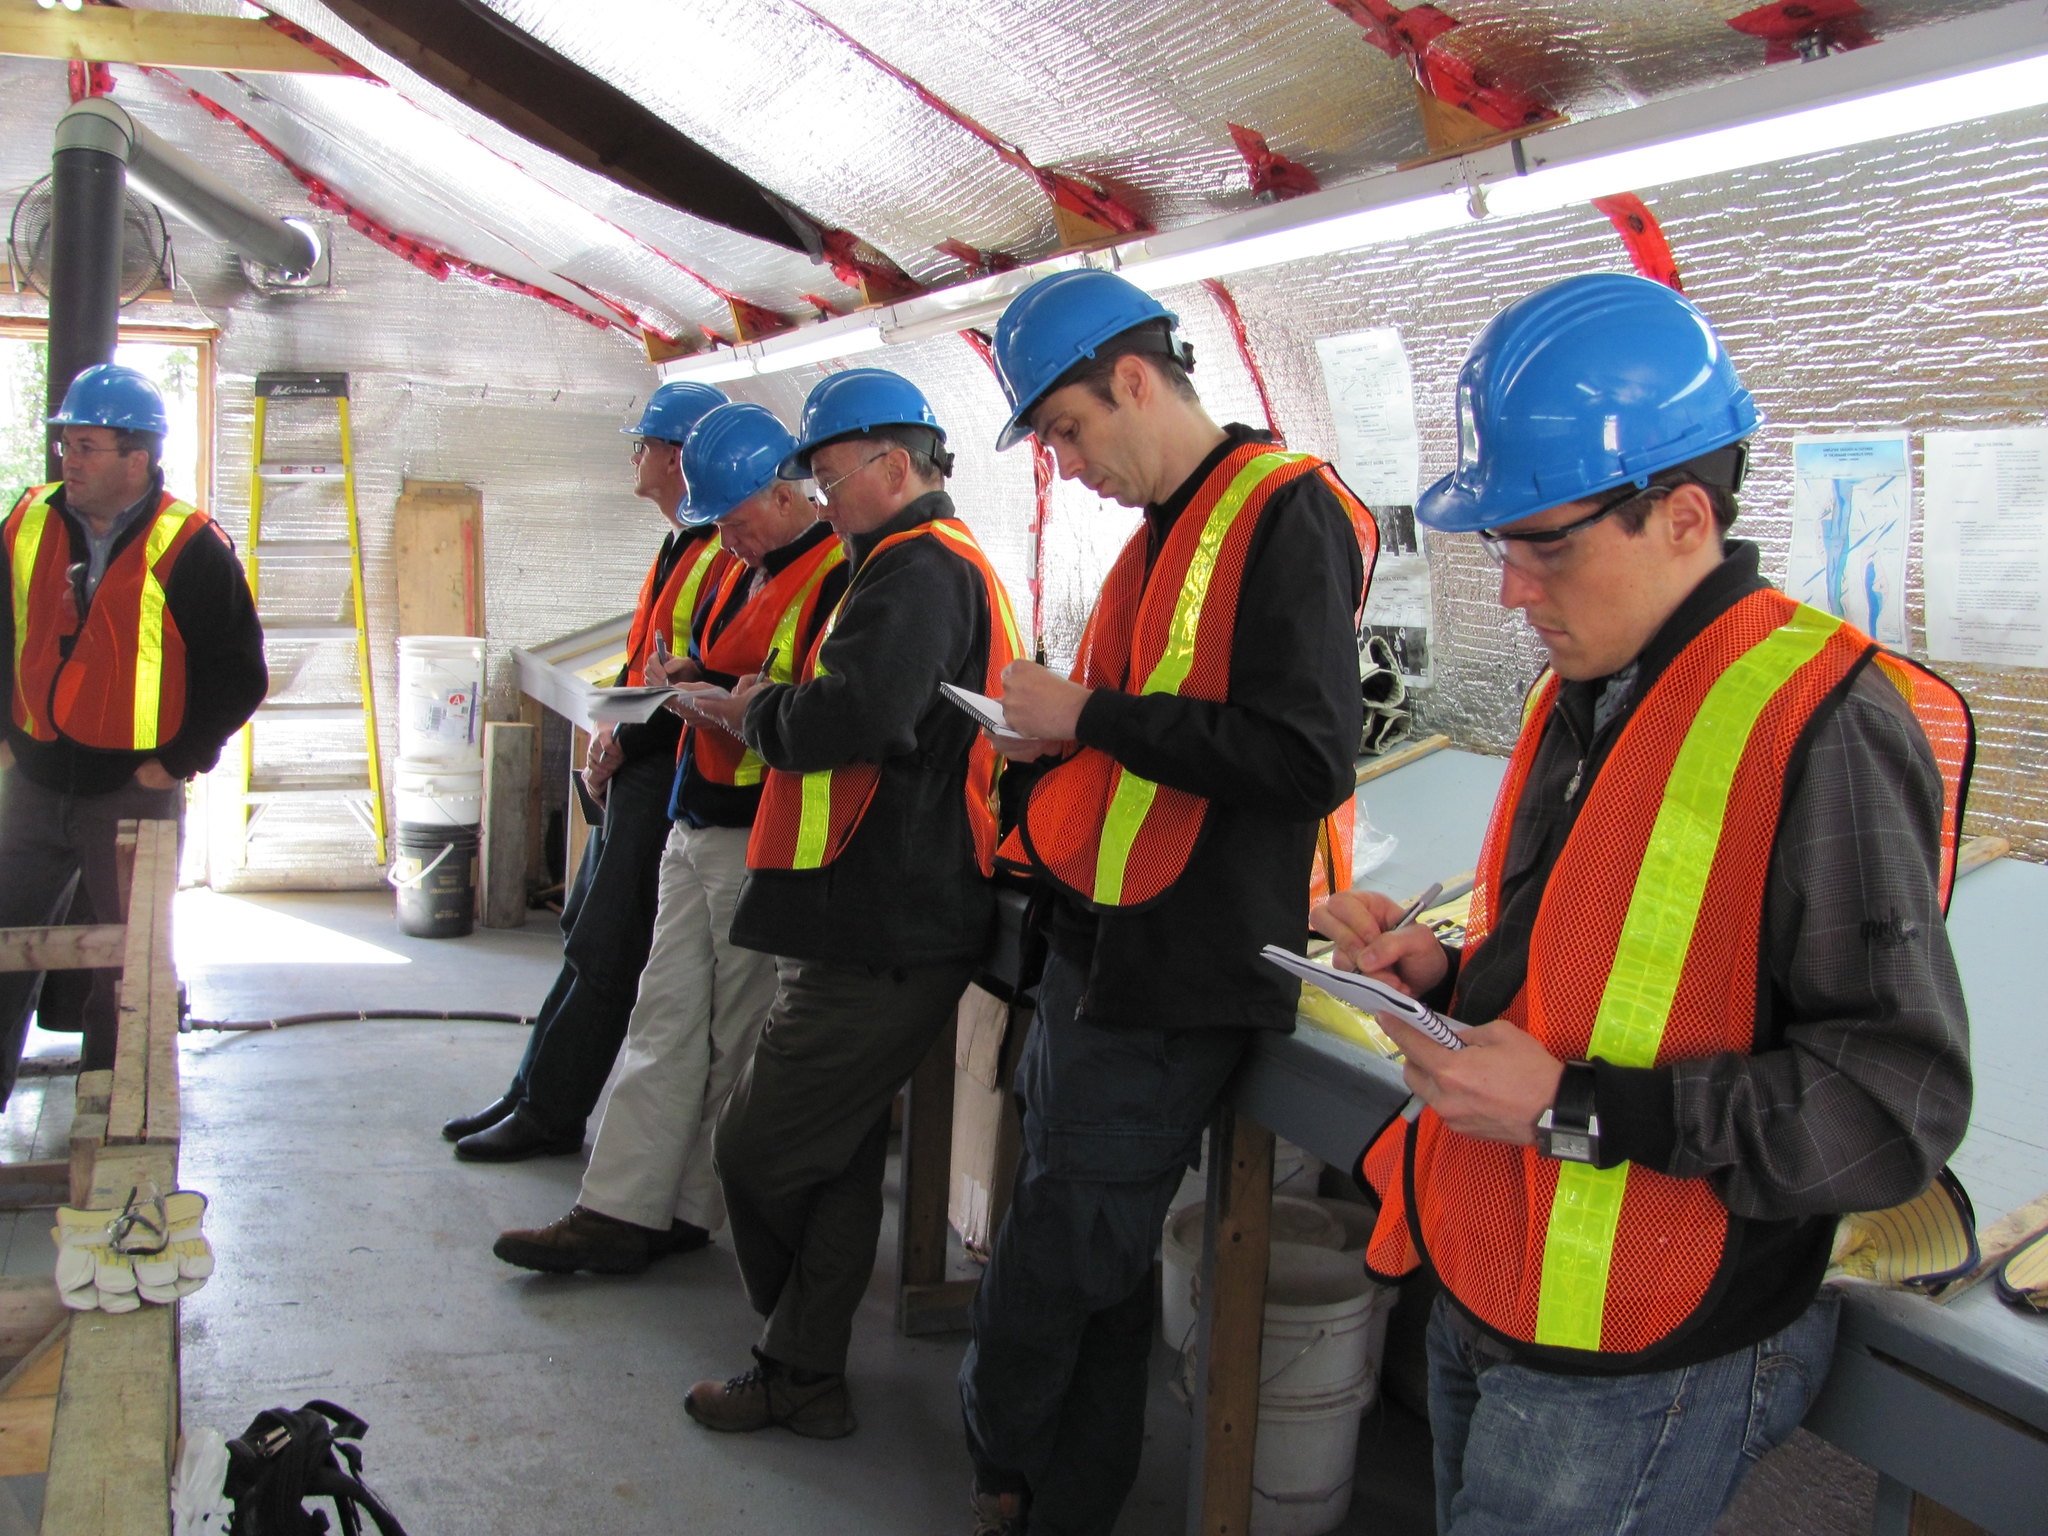Helmet: (1405, 258, 1796, 737), (980, 240, 1238, 528), (772, 363, 972, 608), (34, 353, 184, 549), (605, 376, 737, 520), (676, 402, 801, 537)
Reflective vest: (1355, 582, 1985, 1367), (1030, 444, 1385, 921), (740, 515, 1027, 912), (2, 474, 237, 774), (660, 529, 876, 815), (618, 510, 755, 724)
